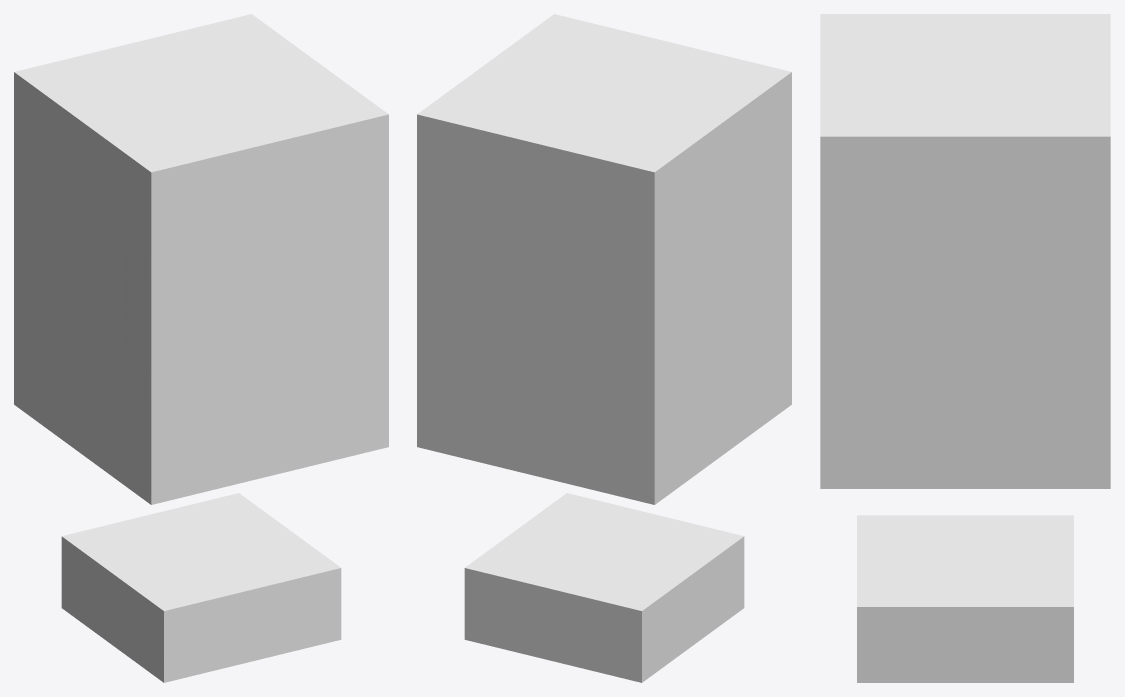
File: AccessPoint_Head.fbx
3 views of the same model, side by side, from view 1: azimuth 30°, elevation 25°; view 2: azimuth 150°, elevation 25°; view 3: azimuth 270°, elevation 25° (orthographic). The views are drawn at different scales.
Parts seen in each view (by area): view 1: APHead; view 2: APHead; view 3: APHead.
Part boxes in pixels (x1,y1,x2,y2): APHead: (14, 14, 388, 682); APHead: (417, 14, 791, 682); APHead: (820, 14, 1110, 682).
Bounding box in the file's own units: 0.1264 × 0.2696 × 0.1264.
